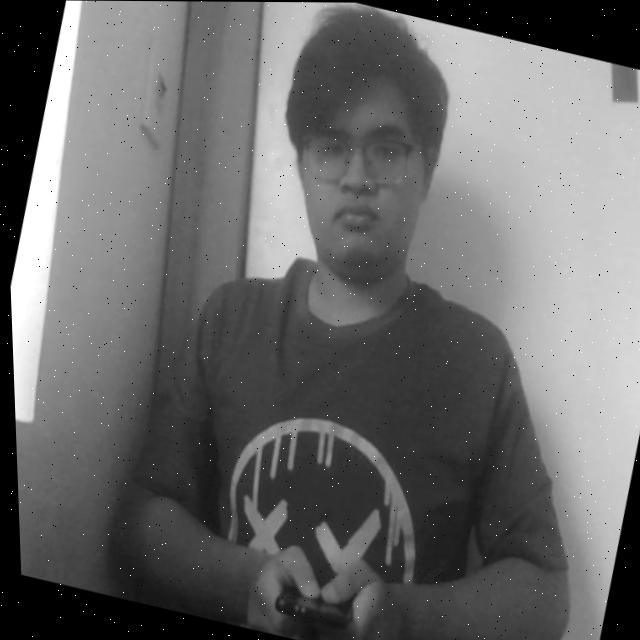phone: (251, 534, 378, 640)
